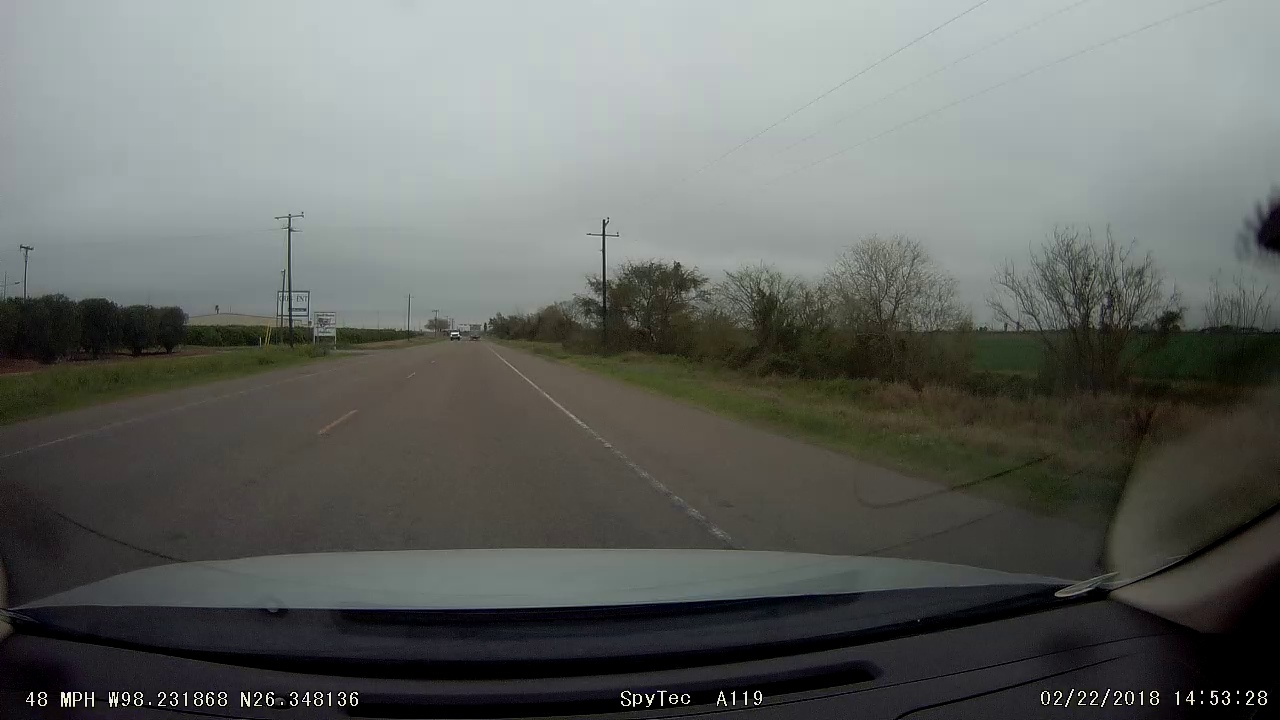blurredLine: (603, 444, 705, 506)
